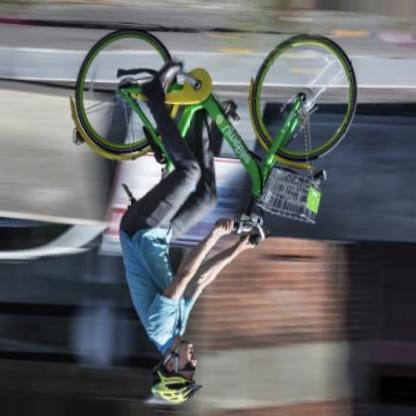with helmet: (150, 340, 203, 404)
